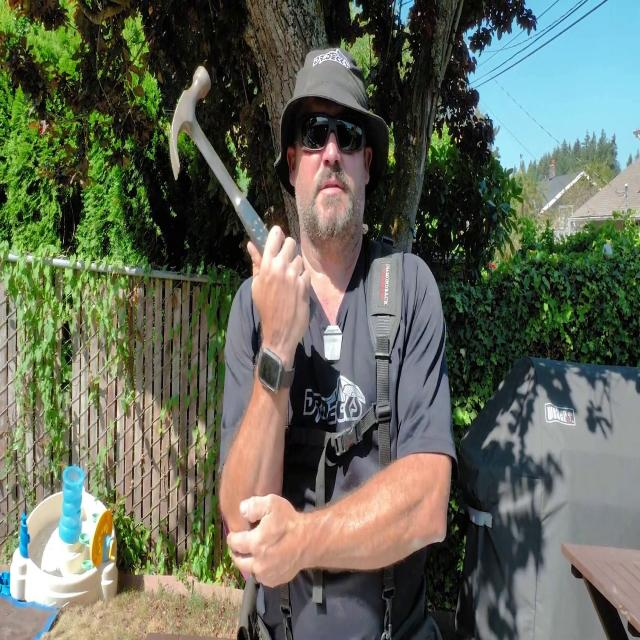hammer: (170, 66, 318, 328)
